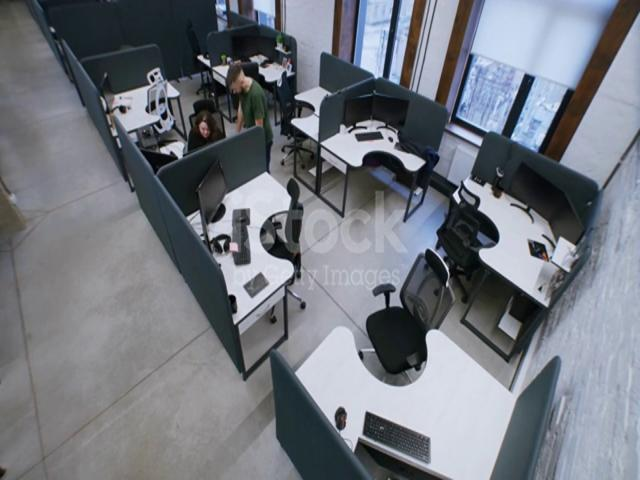empty chair: (378, 225, 432, 404), (446, 166, 495, 310), (275, 169, 317, 318), (278, 62, 316, 184), (135, 52, 177, 138), (178, 12, 215, 89)
occupiedchair: (193, 90, 231, 164)
